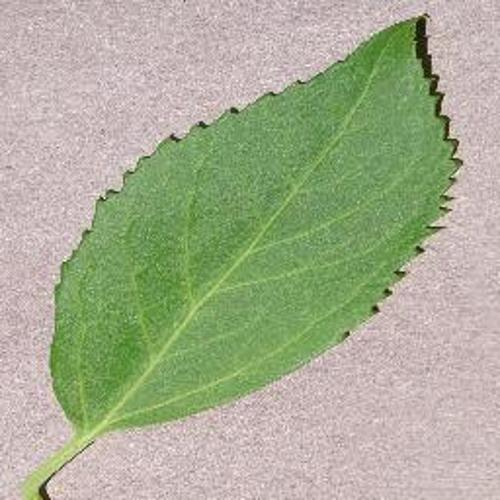Cherry: (27, 16, 463, 500)
